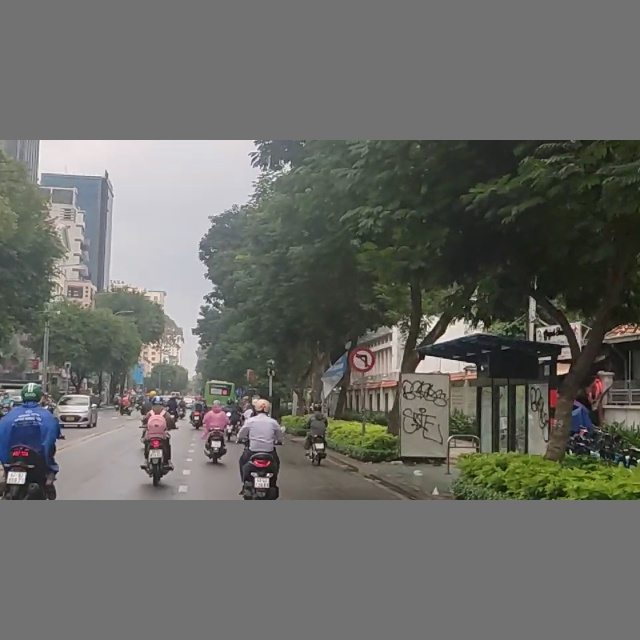P.123a: (351, 347, 374, 371)
